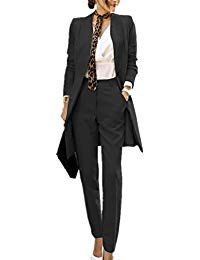feet: (86, 227, 125, 260)
